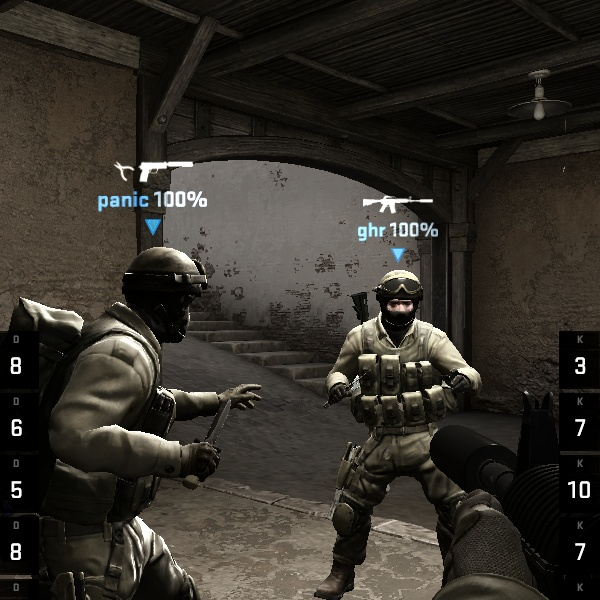ct_body: (307, 263, 502, 592)
ct_head: (360, 270, 430, 341)
